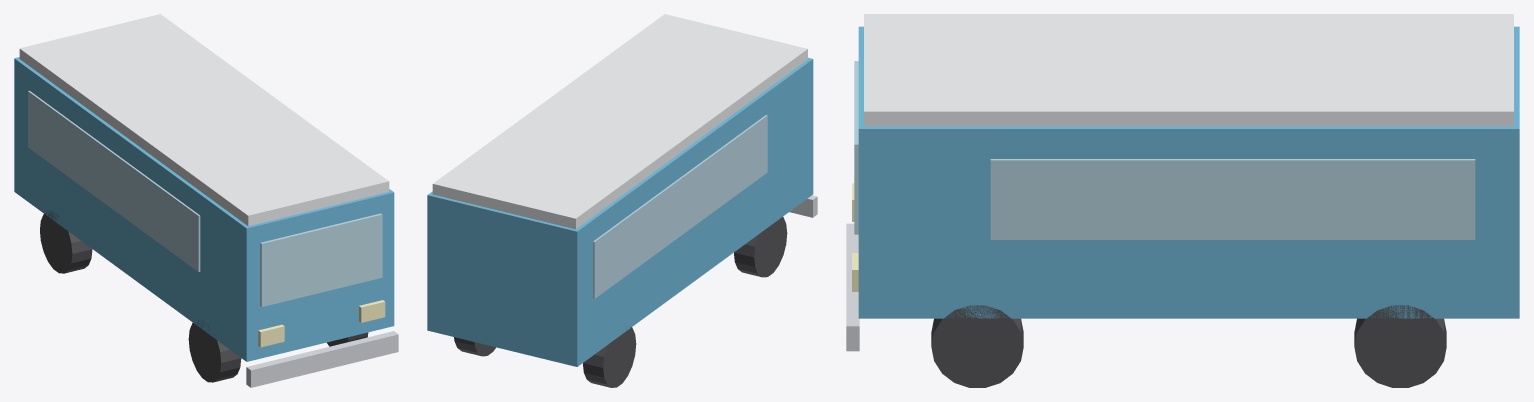
Rendered from Obs3_Bus.fbx.
3 renders of one model, left to right at view 1: azimuth 30°, elevation 25°; view 2: azimuth 150°, elevation 25°; view 3: azimuth 270°, elevation 25°, orthographic. The views are drawn at different scales.
Parts seen in each view (by area): view 1: Obs3_Bus; view 2: Obs3_Bus; view 3: Obs3_Bus.
Part boxes in pixels (x1,y1,x2,y2): Obs3_Bus: (14,14,398,387); Obs3_Bus: (427,14,817,387); Obs3_Bus: (846,14,1519,387).
Size of the model in its own units: 2.25 by 2.74 by 6.11.
